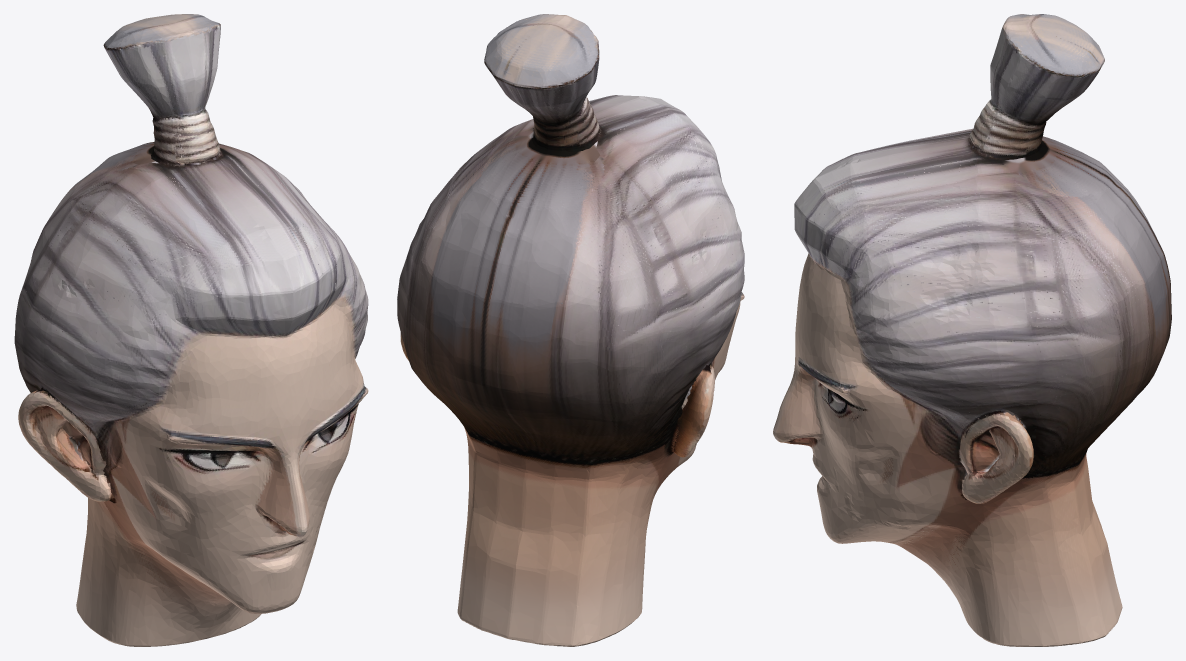
Rendered from side_mizochi_repaired_atlas.glb.
3 renders of one model, left to right at view 1: azimuth 30°, elevation 25°; view 2: azimuth 150°, elevation 25°; view 3: azimuth 270°, elevation 25°, orthographic.
Visible parts, largest first — view 1: temp_mesh.ply; view 2: temp_mesh.ply; view 3: temp_mesh.ply.
Boxes of the visible parts, x1,y1,x2,y2 form: temp_mesh.ply: (14, 14, 368, 646); temp_mesh.ply: (397, 14, 744, 646); temp_mesh.ply: (773, 14, 1171, 646).
Size of the model in its own units: 0.8891 by 1.6 by 0.9894.
Materials: 1 (1 with a texture image).
